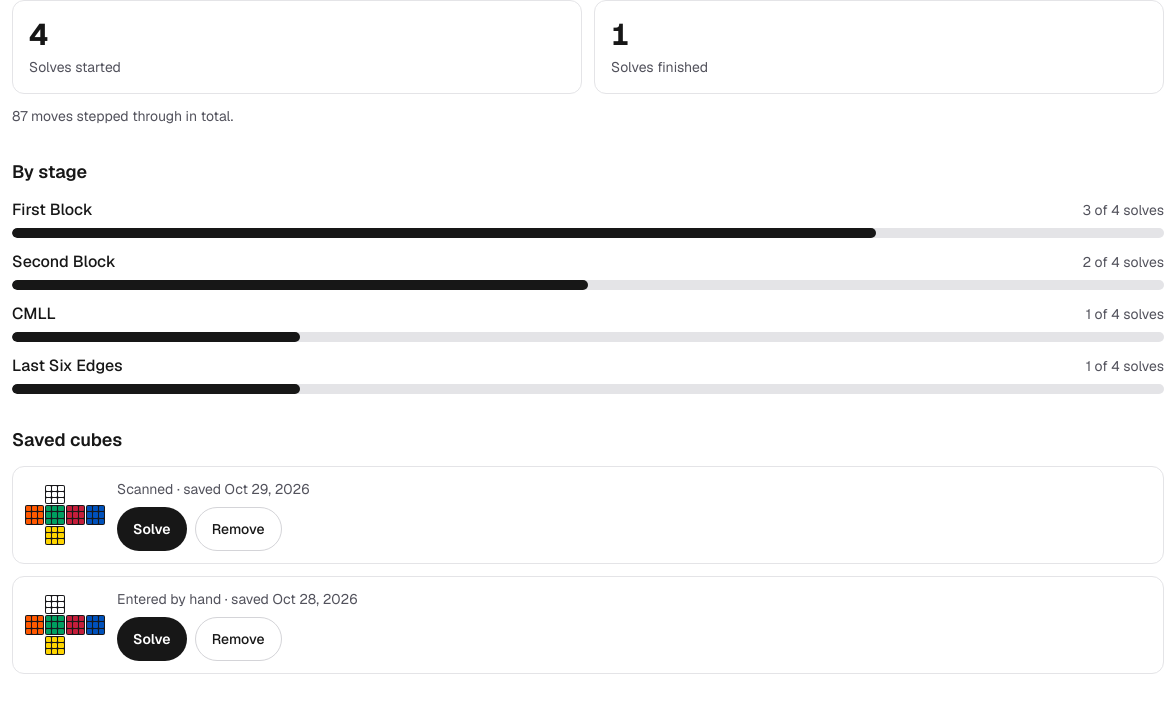
Scenario: ProgressView › lists saved cubes and removes one
This screenshot has width=1176, height=709.
Check: the text "Scanned · saved Oct 29, 2026" is shown, box x1=117 y1=480 x2=310 y2=498
What coordinates should you click on to do the following:
click the button with aria-label "Remove cube 1"
I would click on:
 (238, 529)
Its box is x1=195 y1=507 x2=282 y2=551.
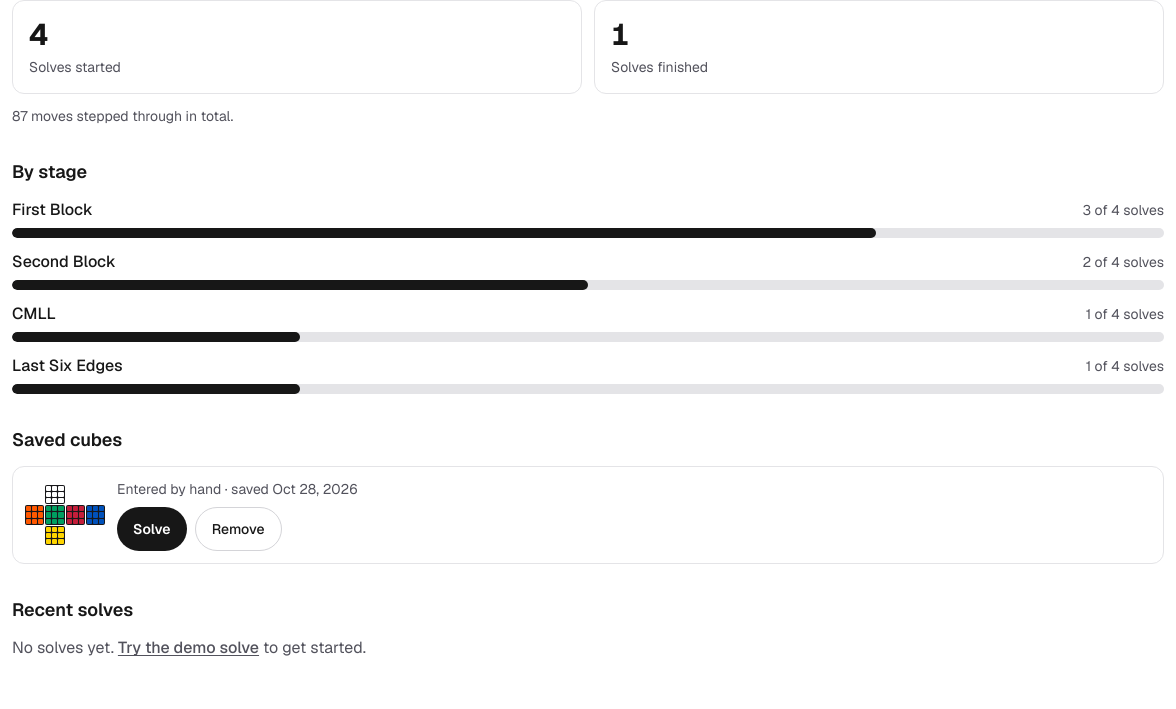
Check: the text "Entered by hand · saved Oct 28, 2026" is shown, box x1=117 y1=480 x2=358 y2=498
Check: the text "Scanned · saved" is gone
